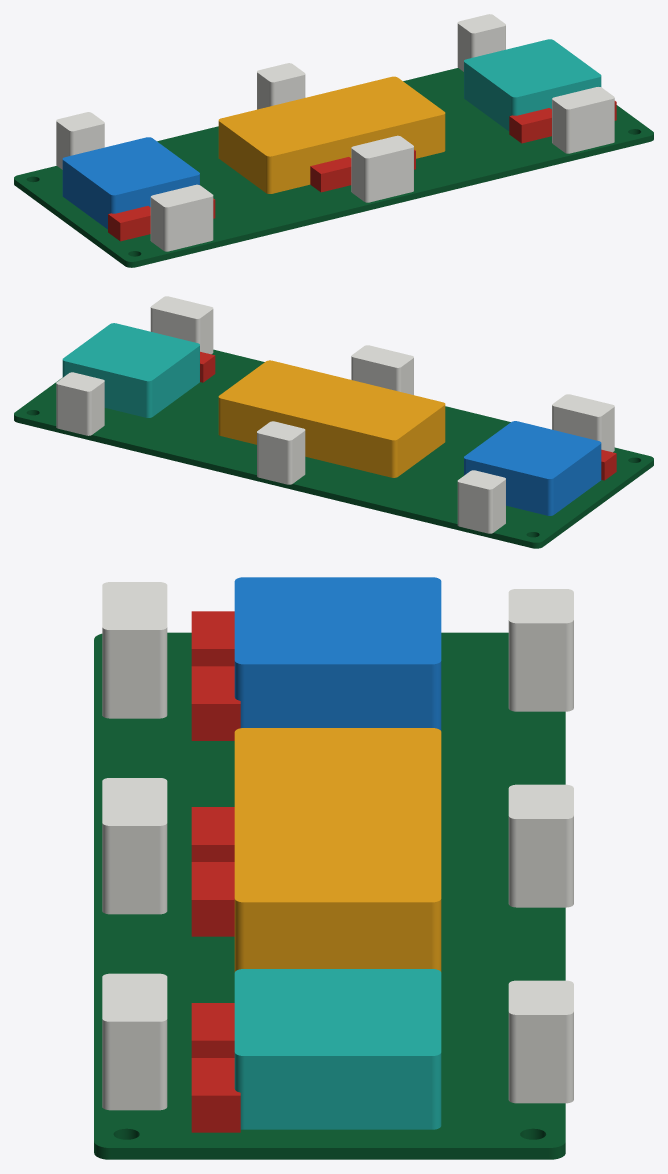
Rendered from HR30_auxiliary_power_module_candidate.glb.
3 views of the same model, one above another, from view 1: azimuth 30°, elevation 25°; view 2: azimuth 150°, elevation 25°; view 3: azimuth 270°, elevation 25° (orthographic). The views are drawn at different scales.
Visible parts, largest first — view 1: CARRIER_PCB, U2_TEN_40_1211E, U1_REC30E_2405SZ, U3_REC30E_2405SZ, JI1, JI2, JI3, JO3, JO1, JO2, F1_SELECTION_REQUIRED, F3_SELECTION_REQUIRED (+1 smaller); view 2: CARRIER_PCB, U2_TEN_40_1211E, U3_REC30E_2405SZ, U1_REC30E_2405SZ, JO3, JO1, JO2, JI3, JI1, JI2, F1_SELECTION_REQUIRED, F3_SELECTION_REQUIRED; view 3: CARRIER_PCB, U2_TEN_40_1211E, U3_REC30E_2405SZ, U1_REC30E_2405SZ, JI3, JI1, JI2, JO2, JO3, JO1, RP3_SELECTION_REQUIRED, RP1_SELECTION_REQUIRED (+4 smaller).
Part boxes in pixels (x1,y1,x2,y2): CARRIER_PCB: (14,68,653,267); U2_TEN_40_1211E: (218,76,445,193); U1_REC30E_2405SZ: (62,137,199,229); U3_REC30E_2405SZ: (464,39,601,131); JI1: (150,184,213,251); JI2: (351,135,413,202); JI3: (552,87,614,153); JO3: (457,14,505,71); JO1: (56,112,104,169); JO2: (257,63,305,109); F1_SELECTION_REQUIRED: (108,206,150,241); F3_SELECTION_REQUIRED: (509,108,551,143); CARRIER_PCB: (14,349,653,548); U2_TEN_40_1211E: (218,360,445,477); U3_REC30E_2405SZ: (62,323,199,417); U1_REC30E_2405SZ: (464,421,601,515); JO3: (56,372,104,435); JO1: (457,470,505,533); JO2: (257,421,305,484); JI3: (150,296,213,354); JI1: (552,394,614,452); JI2: (351,345,413,394); F1_SELECTION_REQUIRED: (601,449,616,480); F3_SELECTION_REQUIRED: (200,351,215,382); CARRIER_PCB: (94,632,565,1159); U2_TEN_40_1211E: (234,728,441,972); U3_REC30E_2405SZ: (234,969,441,1129); U1_REC30E_2405SZ: (234,577,441,730); JI3: (102,973,167,1110); JI1: (102,582,167,718); JI2: (102,778,167,914); JO2: (508,784,573,907); JO3: (508,980,573,1103); JO1: (508,589,573,711); RP3_SELECTION_REQUIRED: (191,1058,240,1132); RP1_SELECTION_REQUIRED: (191,666,240,740).
Bounding box in the file's own units: 150 × 13.6 × 59.
